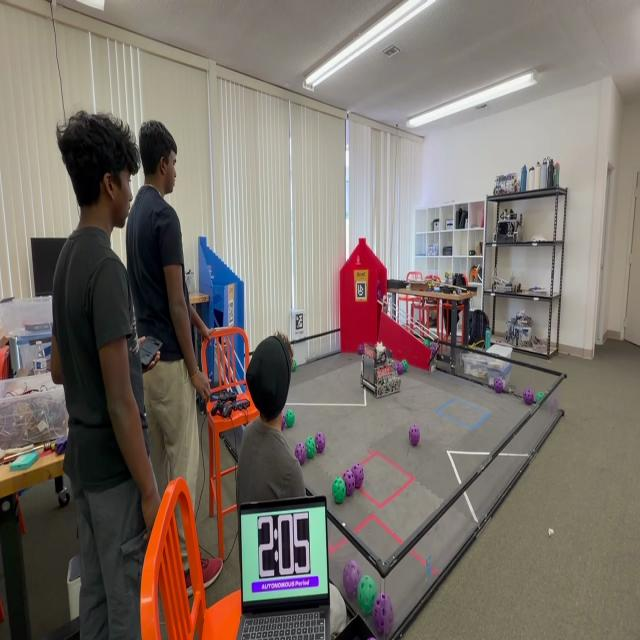artifact_green: (358, 576, 376, 615), (332, 476, 346, 504), (306, 437, 316, 458), (523, 388, 534, 405), (285, 409, 295, 427), (536, 392, 545, 403), (358, 344, 365, 356), (402, 360, 408, 372), (281, 414, 285, 430), (292, 360, 297, 372), (424, 338, 430, 347)
artifact_purple: (373, 592, 393, 635), (343, 560, 361, 597), (342, 470, 355, 495), (352, 464, 364, 487), (295, 443, 307, 464), (409, 425, 421, 446), (546, 395, 559, 414), (315, 432, 325, 453), (523, 389, 534, 405), (494, 378, 504, 394), (394, 363, 404, 375), (431, 343, 438, 353), (281, 414, 285, 430), (358, 344, 363, 355), (393, 363, 398, 373), (368, 637, 376, 639)
